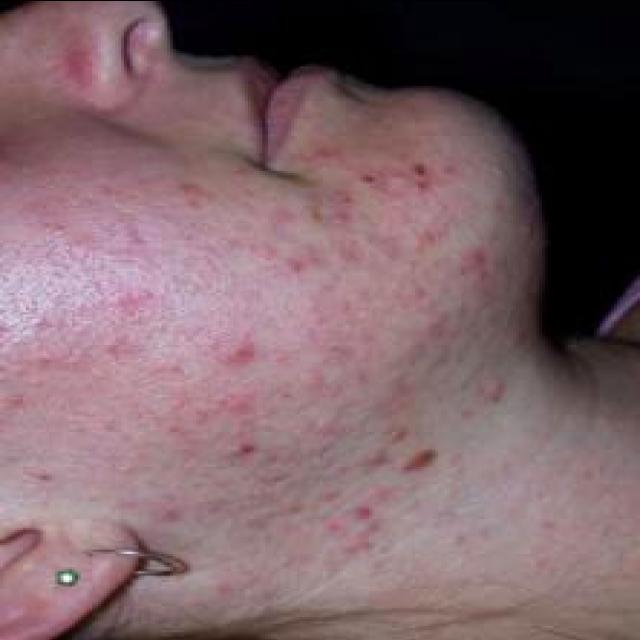Acne: (360, 160, 436, 192), (109, 286, 155, 316), (451, 246, 493, 273), (216, 389, 258, 416), (213, 342, 255, 368), (223, 437, 261, 459), (280, 256, 310, 274)
